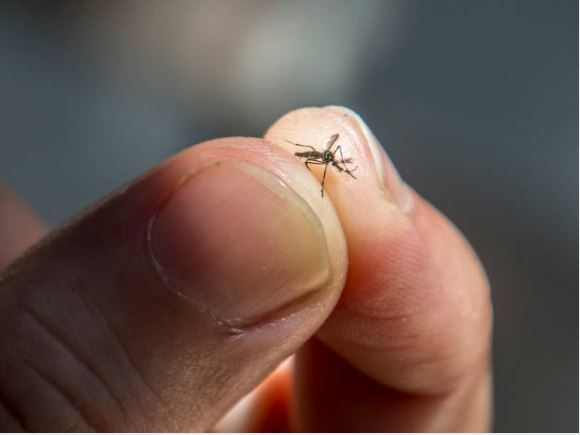dengue_mosquito: (281, 132, 361, 200)
